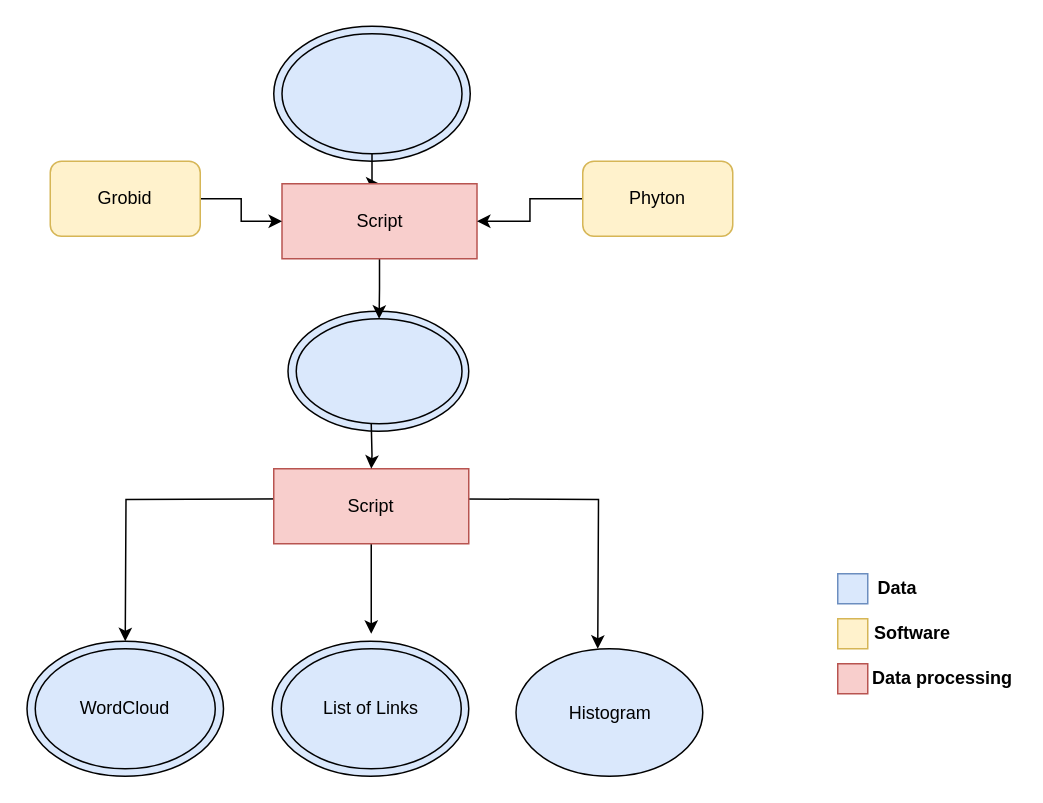
The diagram is 1043 pixels wide and 803 high, and some of its shapes have lost their labels. Here are the shapes that lost their labels. From the top down, the box of each, then its label:
(280, 32, 462, 154): article
(295, 317, 462, 424): XML
